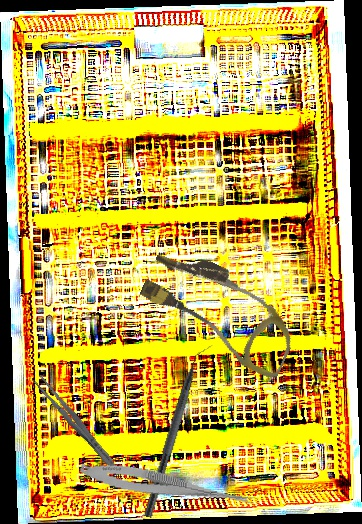Cannula: (130, 239, 310, 382)
Chopper: (143, 339, 214, 522)
Dressing Forceps: (30, 372, 120, 472)
Micro Scissor: (78, 457, 261, 512)
